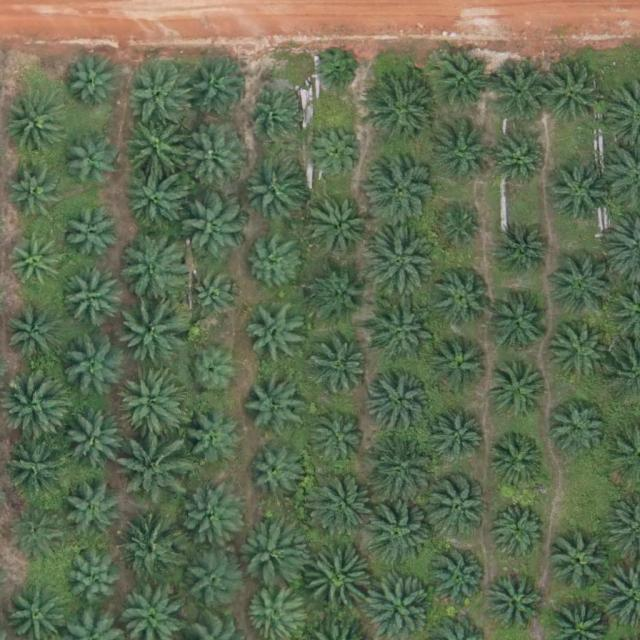Healthy: (305, 469, 376, 540), (366, 432, 437, 503), (364, 499, 435, 570), (118, 297, 188, 368), (116, 368, 187, 438), (121, 437, 191, 508), (365, 74, 435, 145), (363, 157, 433, 228), (363, 231, 433, 302), (125, 62, 195, 132), (114, 233, 184, 303), (302, 548, 372, 618), (4, 94, 67, 157), (64, 337, 127, 400), (62, 480, 125, 543), (127, 123, 190, 186), (127, 167, 190, 230), (119, 520, 182, 583), (182, 126, 245, 189), (244, 370, 307, 433), (305, 405, 368, 468), (309, 267, 372, 330), (307, 194, 370, 257), (435, 53, 498, 116), (430, 267, 493, 330), (489, 294, 552, 357), (489, 432, 552, 495), (549, 531, 612, 594), (549, 162, 612, 225), (7, 500, 69, 563), (8, 439, 70, 502), (61, 269, 123, 332), (67, 410, 129, 473), (179, 488, 241, 551), (184, 195, 247, 257), (183, 59, 245, 122), (244, 162, 306, 225), (245, 298, 308, 360), (237, 519, 299, 582), (369, 306, 431, 369), (370, 374, 432, 437), (431, 333, 493, 396), (490, 64, 553, 126), (487, 361, 549, 424), (426, 550, 488, 613), (546, 401, 608, 464), (548, 323, 610, 386), (553, 256, 615, 319), (541, 63, 603, 126), (179, 549, 241, 611), (310, 335, 372, 397), (431, 475, 493, 537), (494, 222, 556, 284), (485, 572, 547, 634), (63, 57, 118, 113), (9, 172, 64, 227), (7, 238, 62, 293), (5, 311, 60, 366), (65, 137, 120, 192), (64, 209, 119, 264), (311, 127, 366, 182), (186, 348, 241, 403), (189, 270, 244, 325), (248, 94, 303, 149), (244, 236, 299, 291), (249, 444, 304, 499), (428, 411, 483, 466), (435, 131, 490, 186), (491, 501, 546, 556), (496, 131, 550, 187), (68, 558, 122, 613), (185, 413, 239, 468)
Small: (315, 48, 362, 95), (436, 207, 483, 254)
